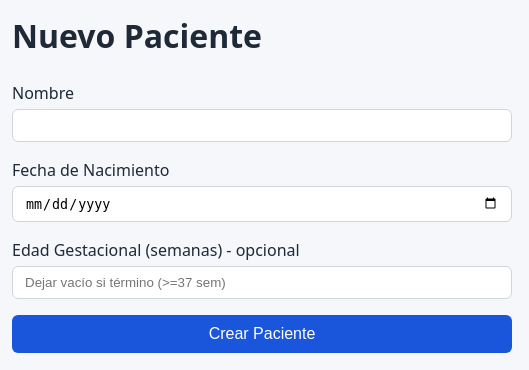
PatientCreatePage › muestra "Guardando..." mientras se envía
Type "Juan" into the field.
click(262, 126); type("Juan")  # box [12,109,512,142]
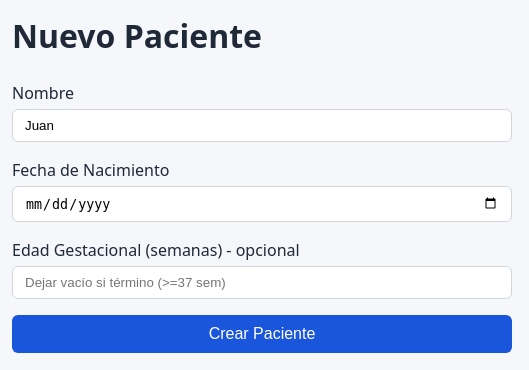
Type "2022-01-15" into the date field labelled "Fecha de Nacimiento".
click(262, 204); type("2022-01-15")  # box [12,186,512,222]
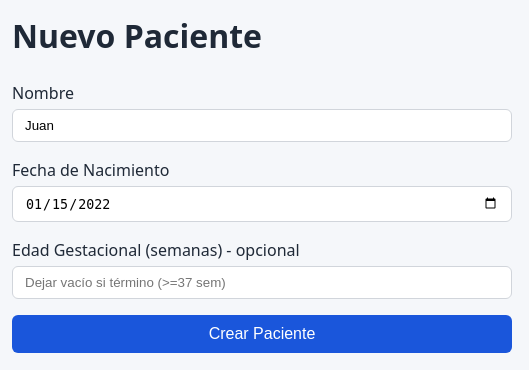
Click the button "Crear Paciente".
click(262, 334)  # box [12,315,512,353]
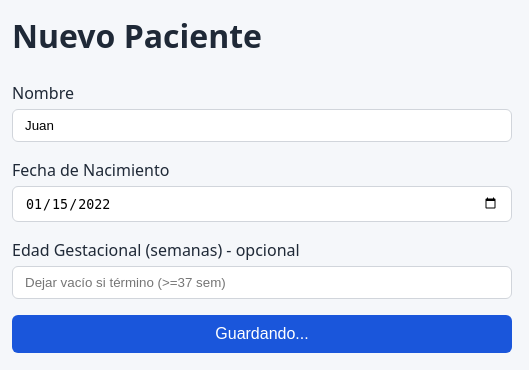
Expected: the button "Guardando..." is shown, [12,315,512,353]
